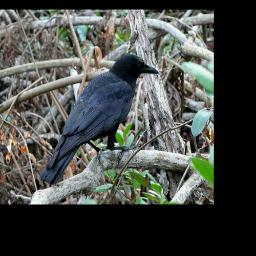Crow: (39, 53, 160, 189)
